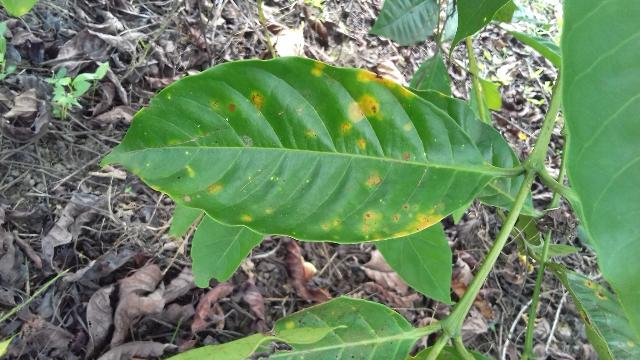rust_level_2: (118, 115, 543, 305)
